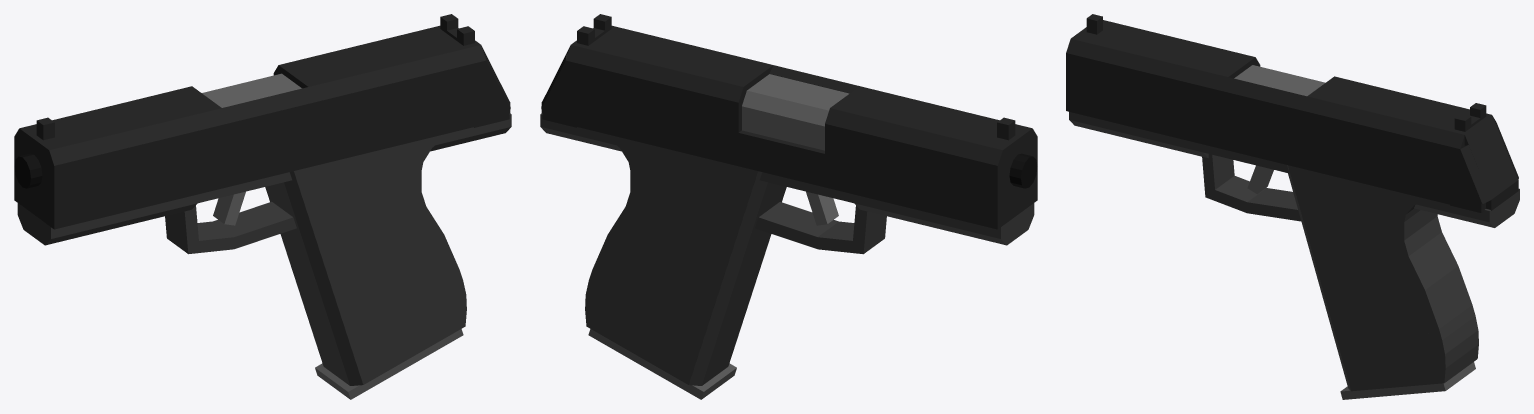
File: PistolUSP.obj
3 views of the same model, side by side, from view 1: azimuth 30°, elevation 25°; view 2: azimuth 150°, elevation 25°; view 3: azimuth 330°, elevation 25° (orthographic). The views are drawn at different scales.
Parts seen in each view (by area): view 1: cube, cylinder, trigge; view 2: cube, cylinder, trigge; view 3: cube, trigge.
Part boxes in pixels (<box>): cube: <box>14,14,511,399</box>; cylinder: <box>14,153,42,188</box>; trigge: <box>213,191,245,225</box>; cube: <box>540,14,1037,399</box>; cylinder: <box>1009,153,1037,188</box>; trigge: <box>806,191,838,225</box>; cube: <box>1066,14,1519,399</box>; trigge: <box>1247,165,1273,194</box>.
Bounding box in the file's own units: 1.03 × 0.6982 × 0.1502.
Materials: 4 (4 with a texture image).
